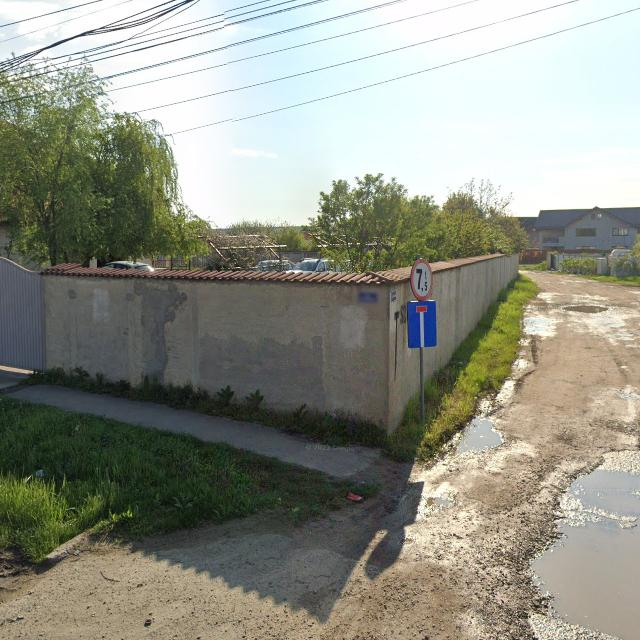forb_weight_over_7.5t: (410, 260, 432, 300)
